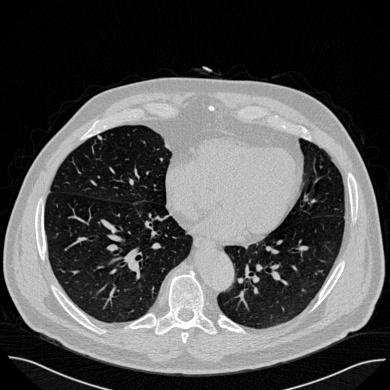PN: (97, 135, 101, 139)
